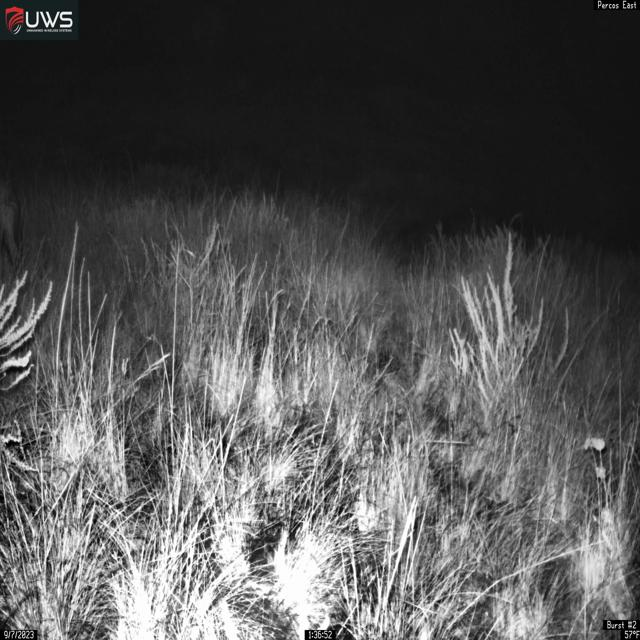pig: (0, 169, 24, 287)
